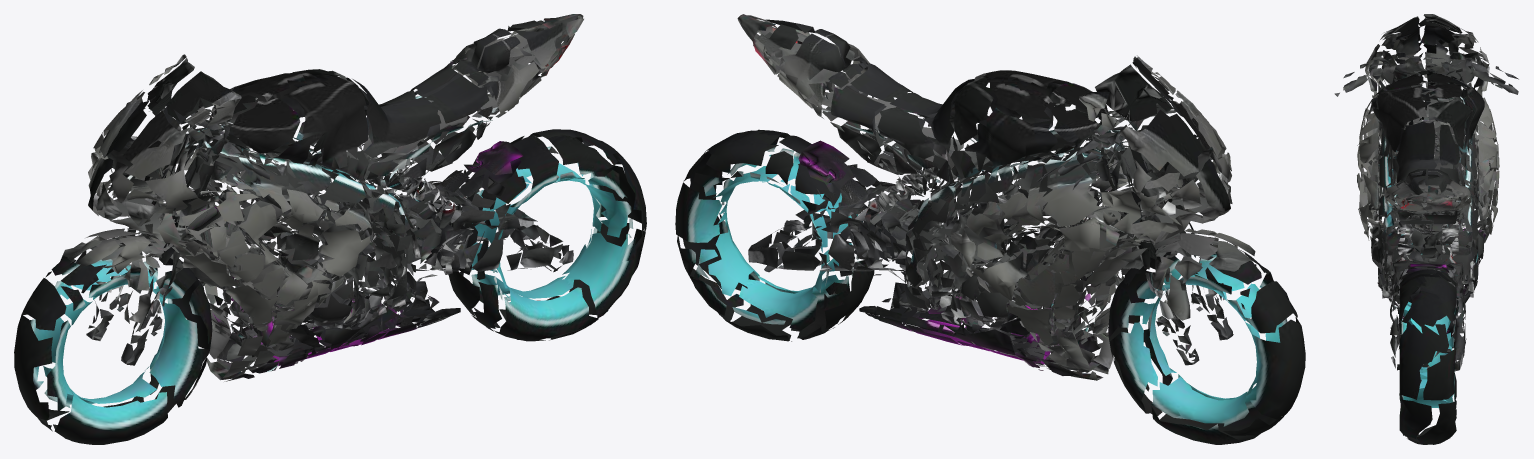
The model's file is motorbike.glb.
The picture shows the model from 3 angles, left to right: view 1: azimuth 30°, elevation 25°; view 2: azimuth 150°, elevation 25°; view 3: azimuth 270°, elevation 25°; orthographic projection. The views are drawn at different scales.
Bounding box in the file's own units: 1.9 × 1.04 × 0.6171.
Materials: 1 (1 with a texture image).
